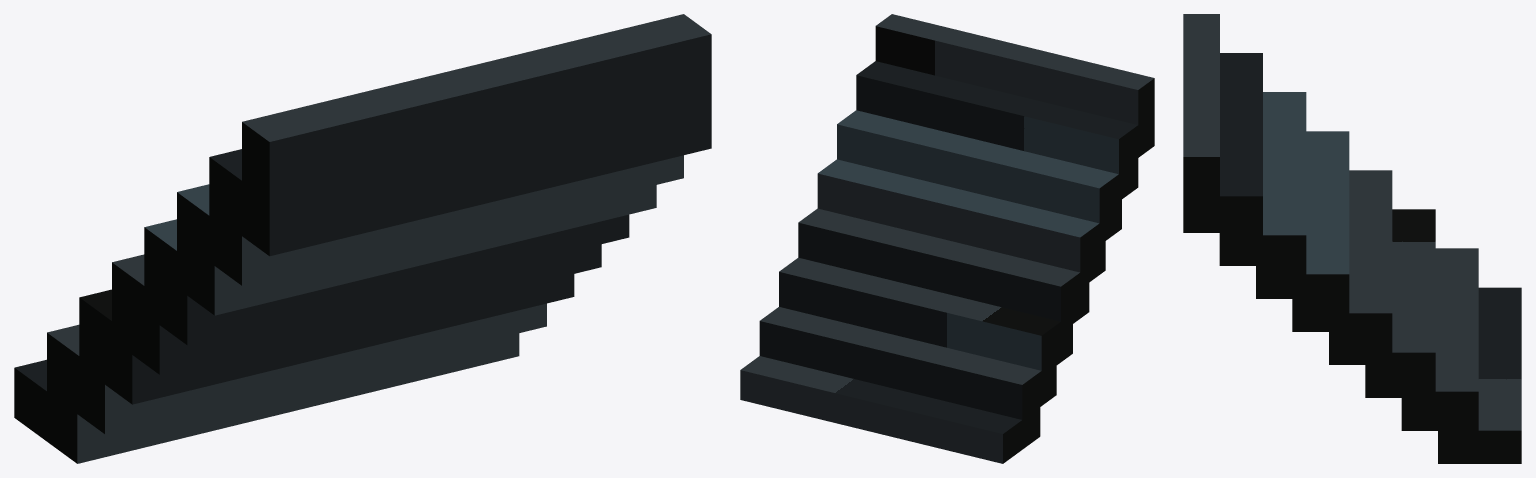
Rendered from Stairs.fbx.
The picture shows the model from 3 angles, left to right: view 1: azimuth 30°, elevation 25°; view 2: azimuth 150°, elevation 25°; view 3: azimuth 270°, elevation 25°; orthographic projection. The views are drawn at different scales.
Parts seen in each view (by area): view 1: Stairs; view 2: Stairs; view 3: Stairs.
Part boxes in pixels (x1,y1,x2,y2): Stairs: (14, 14, 711, 463); Stairs: (740, 14, 1154, 463); Stairs: (1183, 14, 1521, 463).
Size of the model in its own units: 400 by 400 by 400.
1 material, 1 textured.
